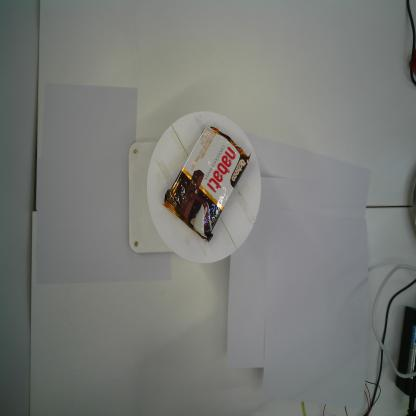Dessert: (161, 124, 252, 247)
